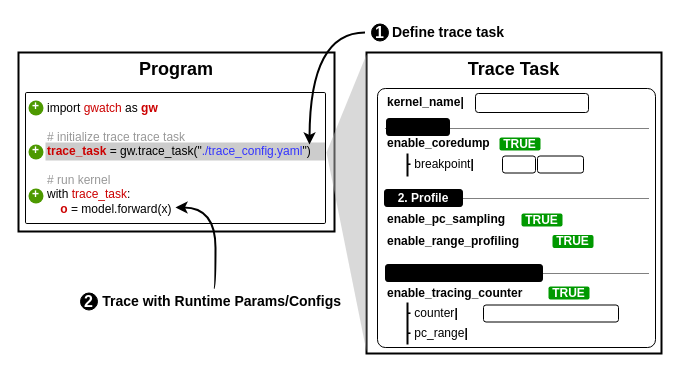
The diagram is 679 pixels wide and 371 high, and some of its shapes have lost their labels. Here are the shapes that lost their labels. From the top down, the centre of each, then its label:
(531,102): sm80_xmma_gemm*
(418,127): 1. Debug
(519,164): 0x50
(560,164): 0x1400
(463,273): 3. Fine-grained Trace
(550,313): dram__bytes_write.sum
